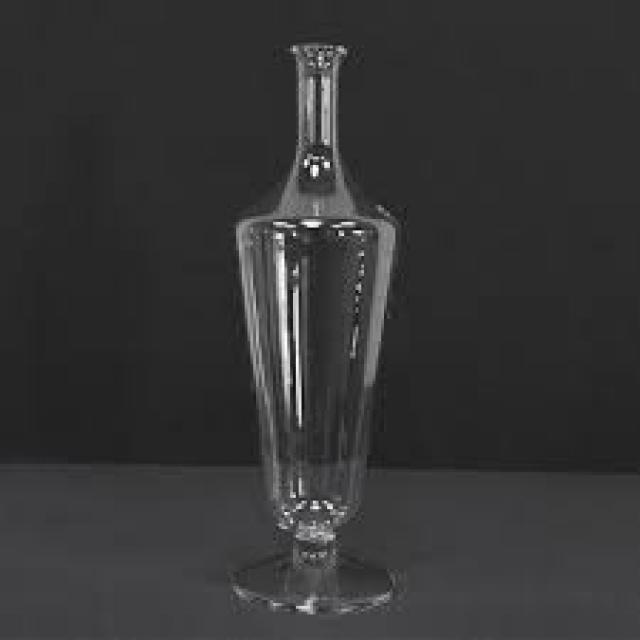Glass-Non-Biodegradable but Recyclable-: (235, 54, 396, 613)
